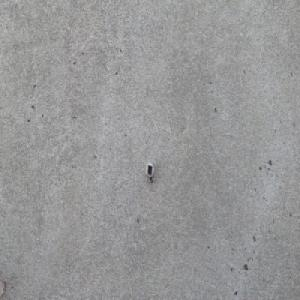MetalPart: (145, 162, 155, 185)
